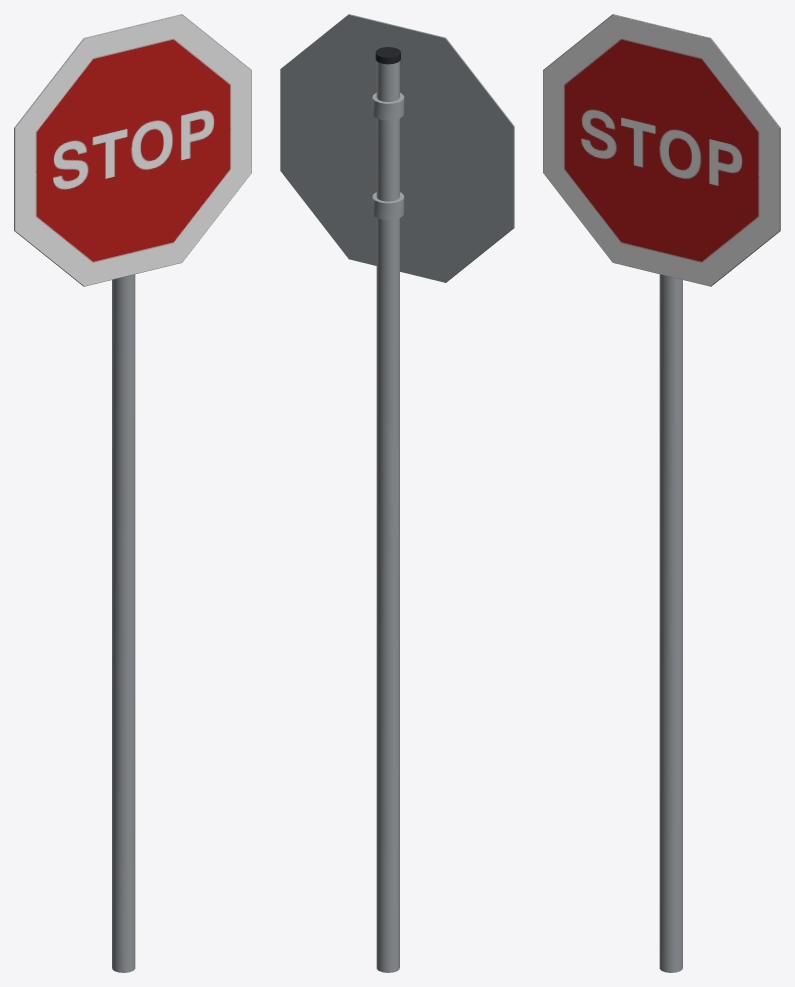
Rendered from stop-sign.glb.
3 renders of one model, left to right at view 1: azimuth 30°, elevation 25°; view 2: azimuth 150°, elevation 25°; view 3: azimuth 330°, elevation 25°, orthographic.
Parts seen in each view (by area): view 1: Stop_Sign; view 2: Stop_Sign; view 3: Stop_Sign.
Part boxes in pixels (x1,y1,x2,y2): Stop_Sign: [14, 14, 251, 972]; Stop_Sign: [280, 14, 514, 972]; Stop_Sign: [543, 14, 780, 972].
Size of the model in its own units: 0.7391 by 2.82 by 0.0962.
3 materials, 1 textured.
